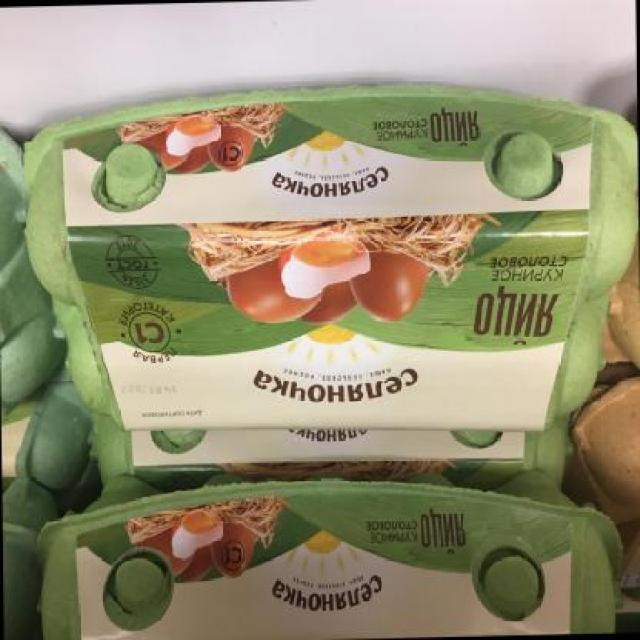Egg: (10, 63, 639, 449), (30, 458, 633, 639)
